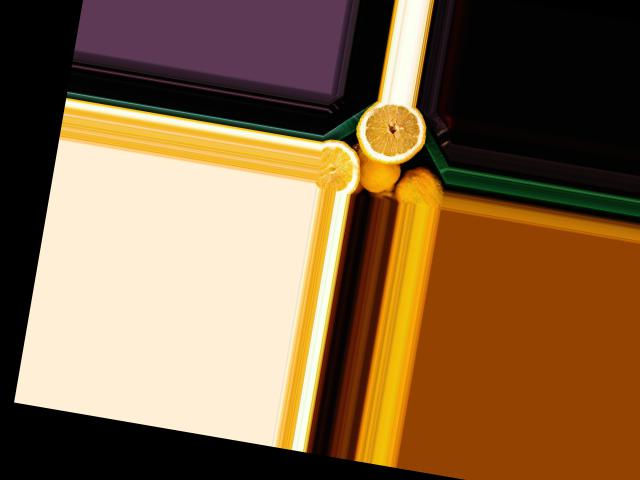lemon: (349, 146, 402, 198)
